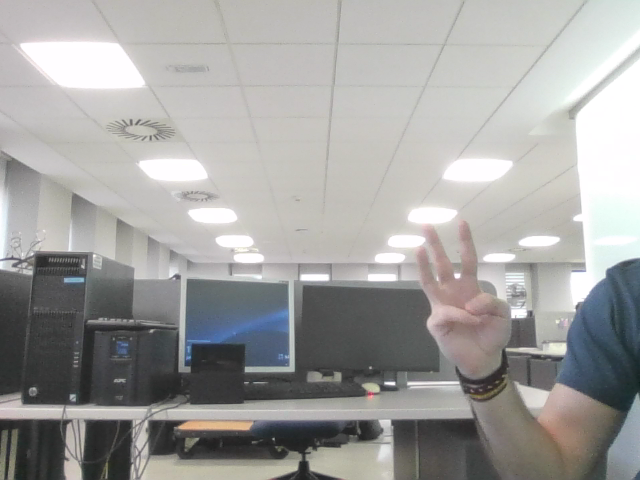3Dedos: (421, 231, 500, 332)
